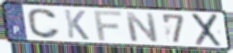7: (160, 13, 186, 44)
C: (26, 8, 62, 40)
F: (92, 10, 124, 42)
K: (63, 9, 91, 42)
N: (124, 11, 161, 44)
X: (191, 13, 224, 48)
